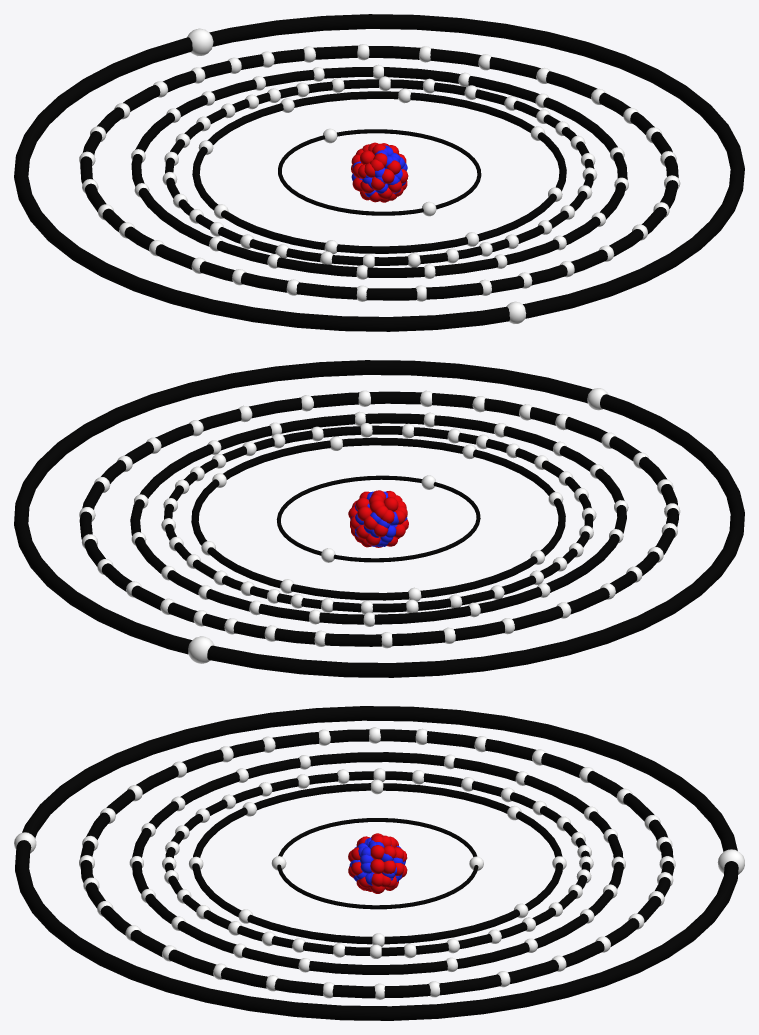
File: 58 Cerio.fbx
3 views of the same model, one above another, from view 1: azimuth 30°, elevation 25°; view 2: azimuth 150°, elevation 25°; view 3: azimuth 270°, elevation 25° (orthographic).
Parts seen in each view (by area): view 1: Orbita.006, Orbita.005, Orbita.004, Orbita.003, Orbita.002, Electron.111, Orbita.001, Electron.093; view 2: Orbita.006, Orbita.005, Orbita.004, Orbita.003, Orbita.002, Electron.111, Orbita.001, Electron.093; view 3: Orbita.006, Orbita.005, Orbita.004, Orbita.003, Orbita.002, Electron.111, Orbita.001.
Part boxes in pixels (x1,y1,x2,y2): Orbita.006: [14, 14, 744, 331]; Orbita.005: [80, 45, 678, 300]; Orbita.004: [131, 67, 627, 277]; Orbita.003: [165, 79, 594, 265]; Orbita.002: [192, 91, 566, 253]; Electron.111: [351, 142, 408, 202]; Orbita.001: [278, 129, 481, 215]; Electron.093: [187, 28, 213, 56]; Orbita.006: [14, 360, 744, 677]; Orbita.005: [79, 391, 678, 646]; Orbita.004: [130, 413, 626, 624]; Orbita.003: [164, 425, 593, 612]; Orbita.002: [191, 437, 565, 600]; Electron.111: [348, 490, 408, 547]; Orbita.001: [276, 475, 480, 562]; Electron.093: [188, 636, 214, 663]; Orbita.006: [15, 706, 738, 1020]; Orbita.005: [80, 729, 673, 998]; Orbita.004: [132, 752, 623, 974]; Orbita.003: [165, 771, 590, 956]; Orbita.002: [192, 783, 562, 944]; Electron.111: [348, 833, 407, 893]; Orbita.001: [277, 818, 478, 909].
Bounding box in the file's own units: 33.8 × 33.5 × 2.85.
